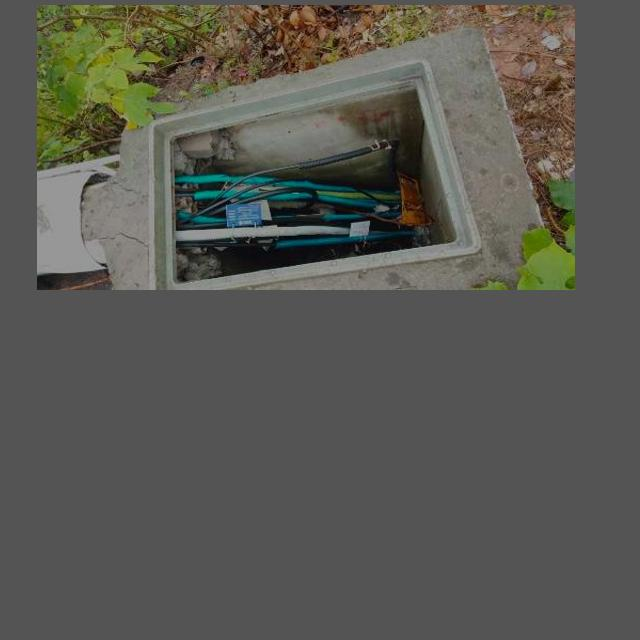lose: (149, 58, 483, 290)
